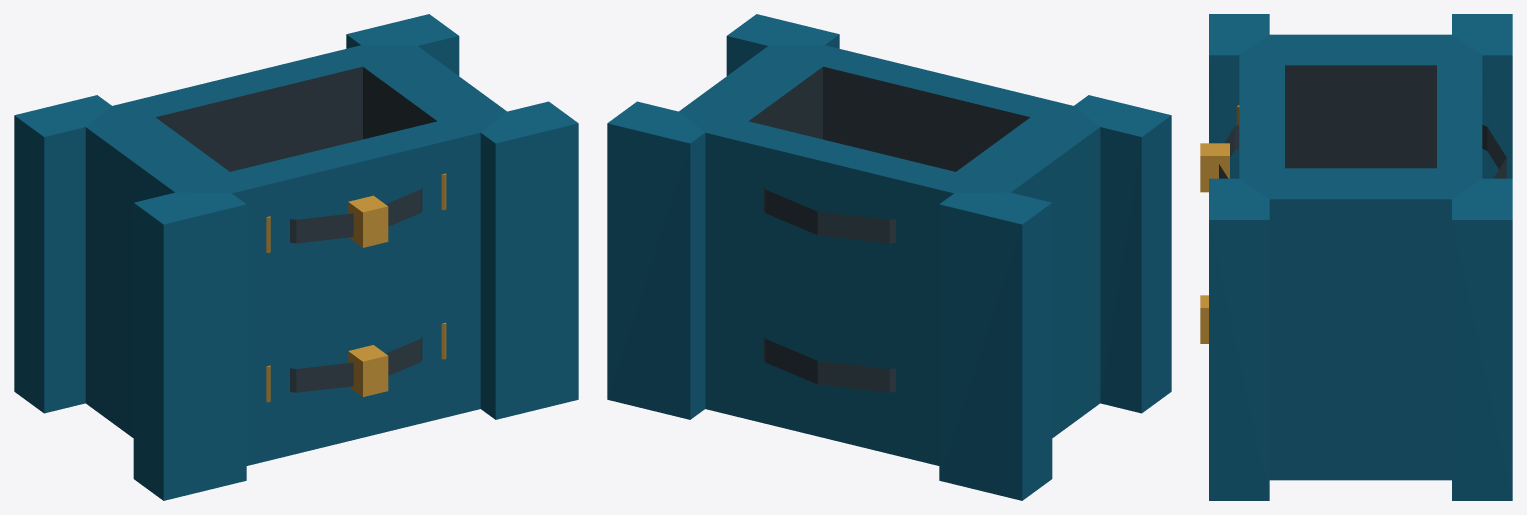
Rendered from dock-chest-sky.glb.
3 views of the same model, side by side, from view 1: azimuth 30°, elevation 25°; view 2: azimuth 150°, elevation 25°; view 3: azimuth 270°, elevation 25° (orthographic).
Visible parts, largest first — view 1: dock-chest-sky; view 2: dock-chest-sky; view 3: dock-chest-sky.
Boxes of the visible parts, <box> form: dock-chest-sky: <box>14,14,578,500</box>; dock-chest-sky: <box>607,14,1171,500</box>; dock-chest-sky: <box>1200,14,1512,500</box>.
Size of the model in its own units: 0.77 by 0.49 by 0.4939.
